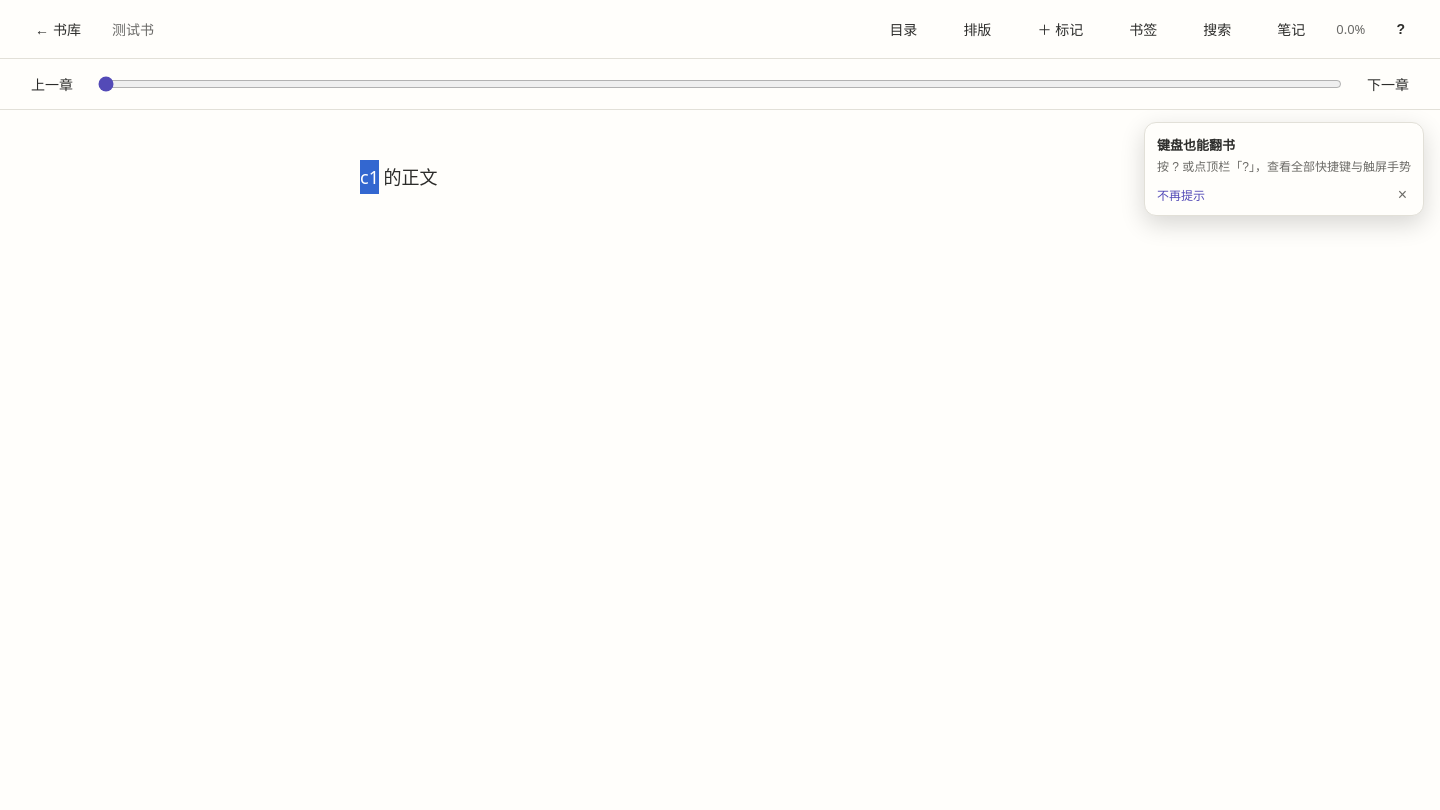
Test case: 阅读器 › 触屏手势（点按翻屏 / 滑动翻屏 / 点中间收起顶栏） › 触摸划词不会被误判成滑动翻屏（拖选区把手不能顺带翻页）
The image size is (1440, 810).
Check: the text "c1 的正文" is shown, box [360, 165, 438, 189]
Press the mouse on the element with class "reader-scroll" at (720, 460), box [0, 110, 1439, 809]
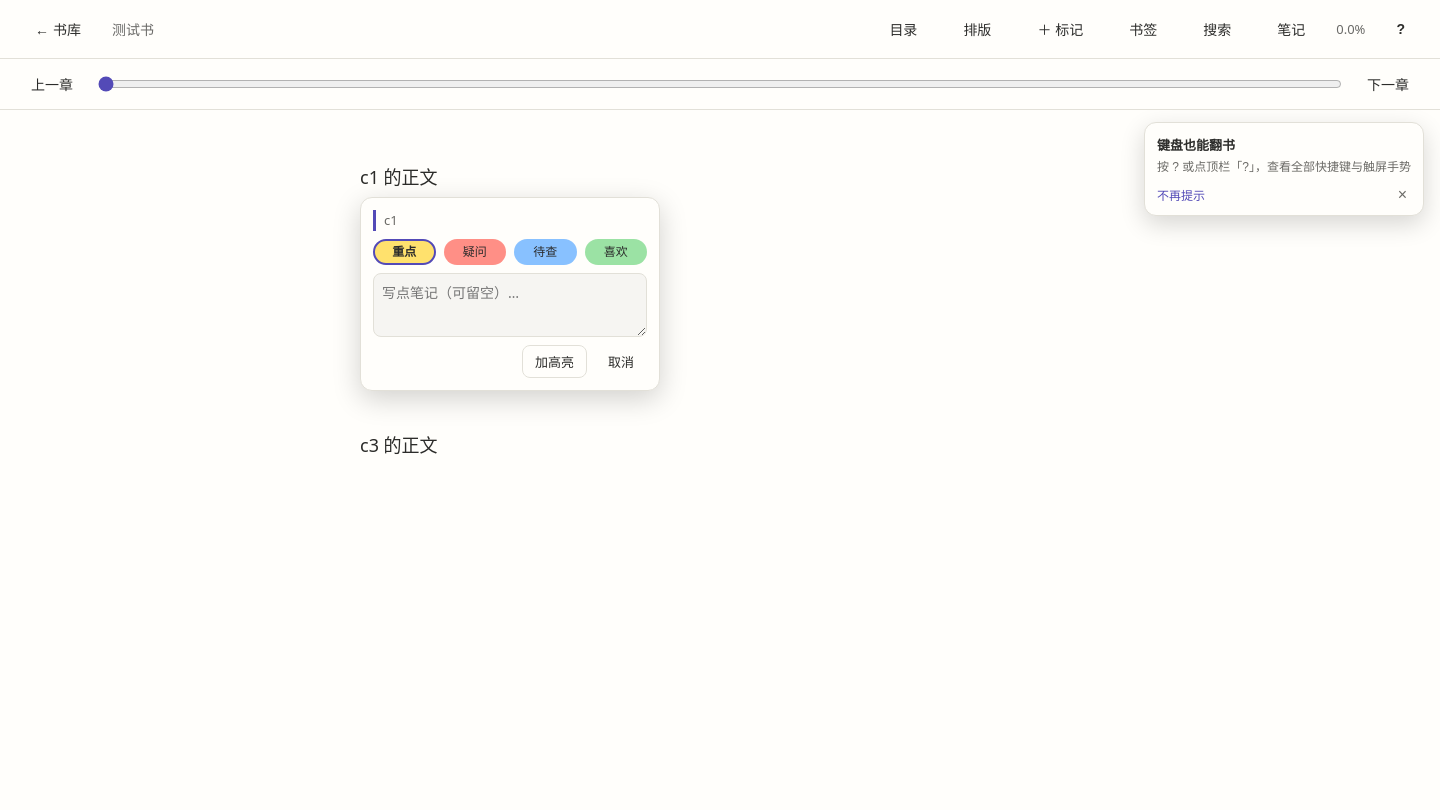
Check: the button "加高亮" is shown, box [522, 345, 587, 378]
